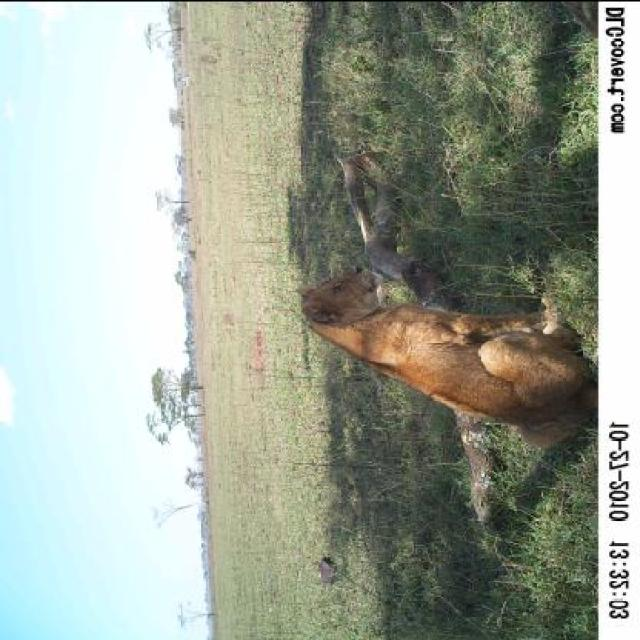Lion: (288, 258, 584, 450)
